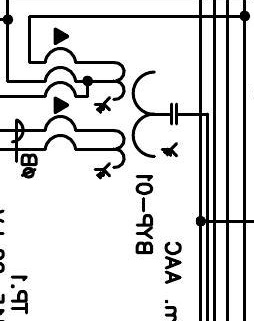115_cvt_3p: (93, 60, 178, 180)
